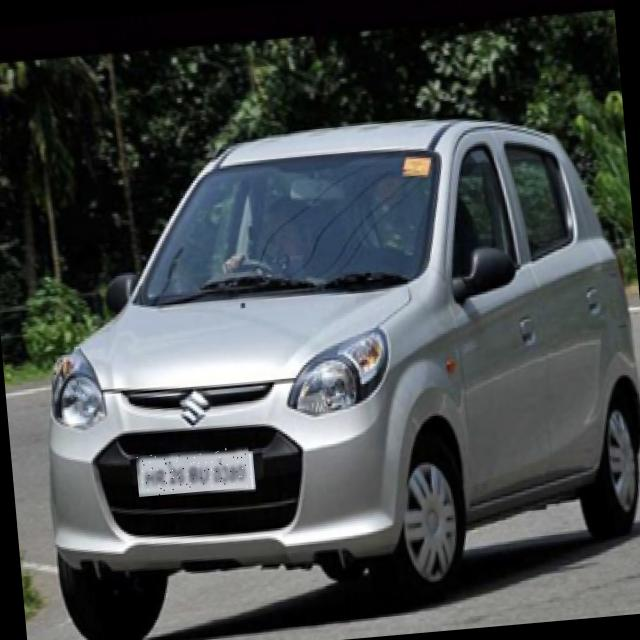Plate: (136, 447, 252, 498)
